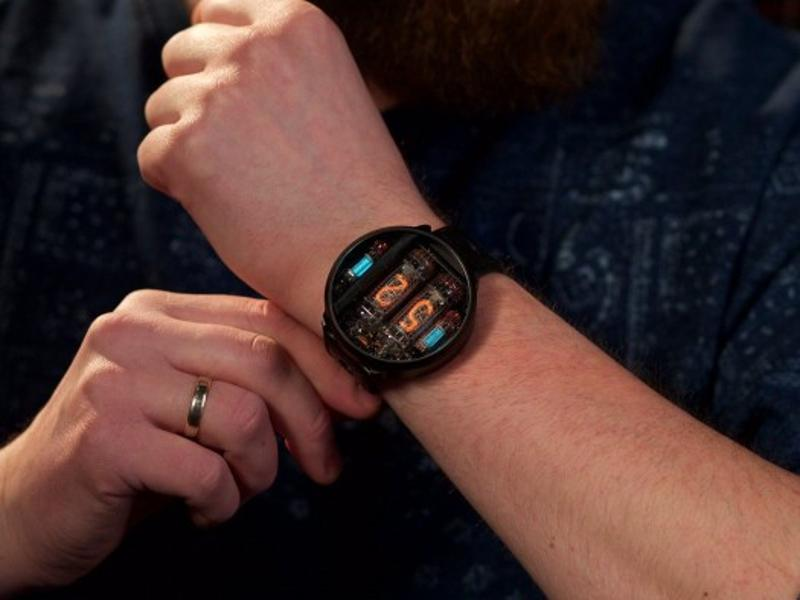watch: (313, 214, 525, 393)
